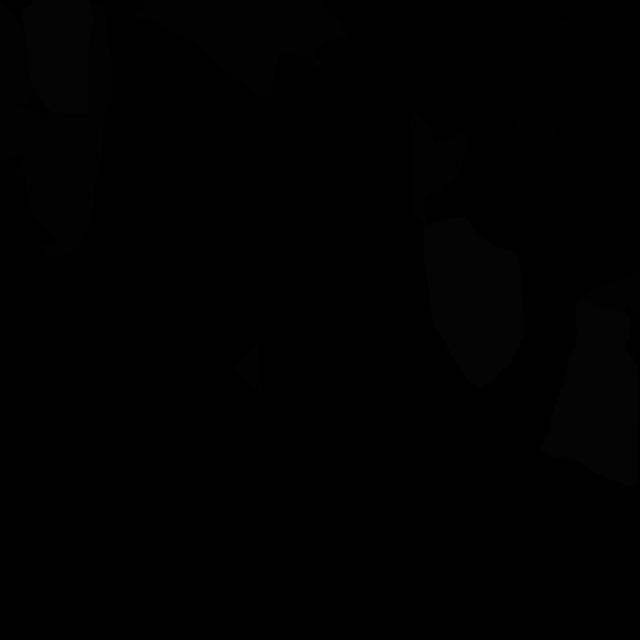cardboard: (0, 0, 115, 258), (135, 0, 350, 105), (411, 109, 468, 227), (0, 0, 34, 112), (582, 269, 640, 312), (230, 342, 262, 397)
rigid_plastic: (509, 17, 581, 164)
soft_plastic: (540, 299, 640, 487), (423, 216, 526, 389), (21, 0, 94, 115)
